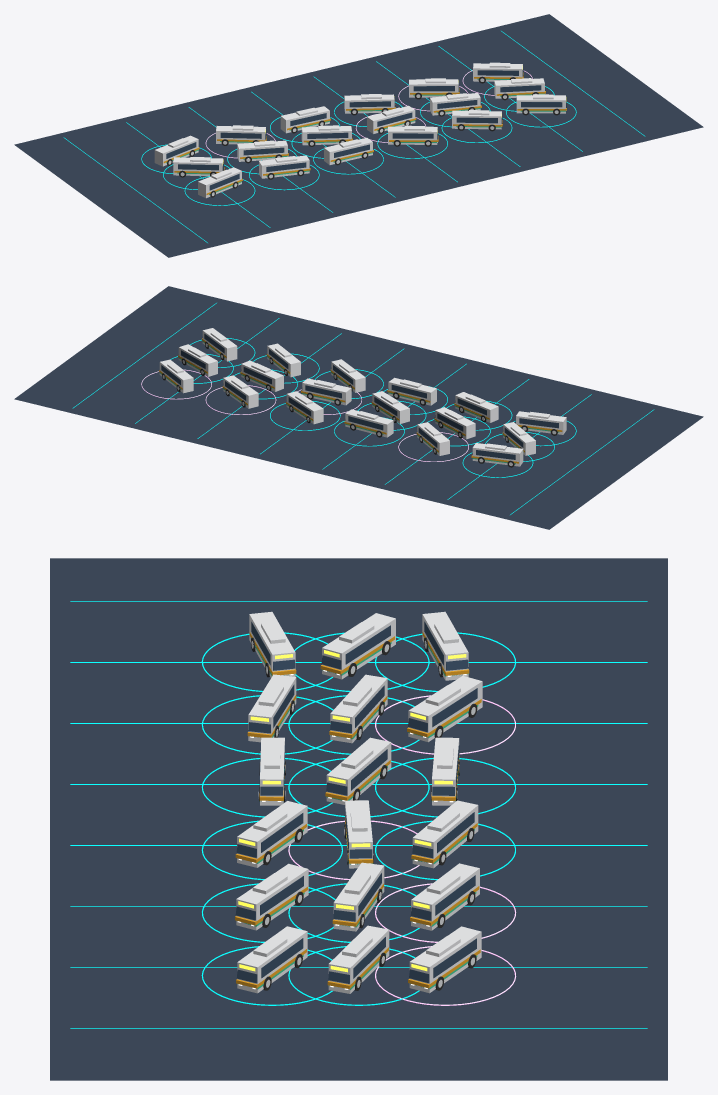
The model's file is 6670_18_buses_fleet.glb.
The picture shows the model from 3 angles, top to bottom: view 1: azimuth 30°, elevation 25°; view 2: azimuth 150°, elevation 25°; view 3: azimuth 270°, elevation 25°; orthographic projection. The views are drawn at different scales.
Parts seen in each view (by area): view 1: Fleet_Hangar_Floor, Cube.135, Cube.117, Cube.126, Cube.018, Cube.072, Cube.081, Cube.063, Cube.108, Cube.027, Cube.153, Cube.090 (+7 smaller); view 2: Fleet_Hangar_Floor, Cube, Cube.018, Cube.081, Cube.126, Cube.108, Cube.117, Cube.063, Cube.090, Cube.099, Cube.027, Cube.072 (+7 smaller); view 3: Fleet_Hangar_Floor, Cube.009, Cube.054, Cube.045, Cube.144, Cube.153, Cube.135, Cube.036, Cube.027, Cube.099, Cube.072, Cube.063 (+7 smaller).
Part boxes in pixels (box(x1,y1,x2,y2)): Fleet_Hangar_Floor: box(14, 14, 703, 257); Cube.135: box(388, 126, 437, 144); Cube.117: box(259, 155, 309, 178); Cube.126: box(324, 137, 372, 164); Cube.018: box(280, 106, 329, 133); Cube.072: box(301, 126, 351, 145); Cube.081: box(367, 105, 415, 133); Cube.063: box(237, 140, 287, 161); Cube.108: box(198, 167, 241, 198); Cube.027: box(344, 94, 394, 113); Cube.153: box(516, 95, 565, 113); Cube.090: box(430, 93, 480, 115); Fleet_Hangar_Floor: box(14, 286, 703, 529); Cube: box(472, 443, 523, 466); Cube.018: box(345, 409, 393, 437); Cube.081: box(302, 378, 351, 405); Cube.126: box(388, 377, 436, 405); Cube.108: box(516, 411, 566, 434); Cube.117: box(455, 392, 498, 422); Cube.063: box(435, 407, 475, 439); Cube.090: box(241, 360, 283, 391); Cube.099: box(178, 344, 217, 376); Cube.027: box(286, 391, 323, 424); Cube.072: box(372, 391, 409, 423); Fleet_Hangar_Floor: box(50, 558, 667, 1080); Cube.009: box(408, 676, 482, 742); Cube.054: box(322, 613, 395, 679); Cube.045: box(409, 926, 481, 993); Cube.144: box(236, 863, 308, 930); Cube.153: box(237, 926, 307, 993); Cube.135: box(237, 801, 307, 867); Cube.036: box(411, 863, 479, 930); Cube.027: box(412, 800, 478, 868); Cube.099: box(328, 925, 389, 993); Cube.072: box(326, 737, 391, 804); Cube.063: box(330, 674, 387, 743).
Size of the model in its own units: 60 by 1.77 by 30.
